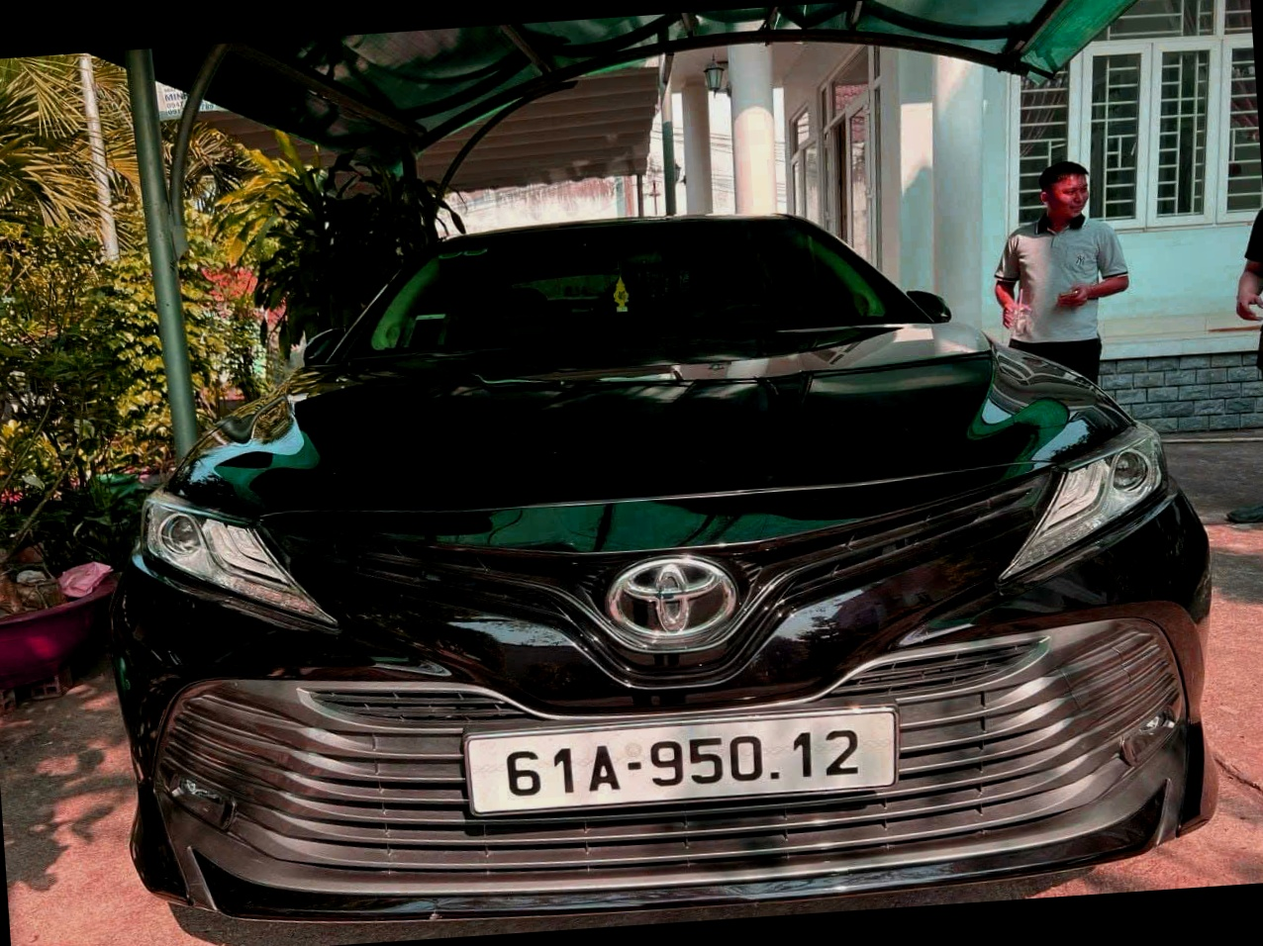Bien-so: (480, 688, 924, 827)
